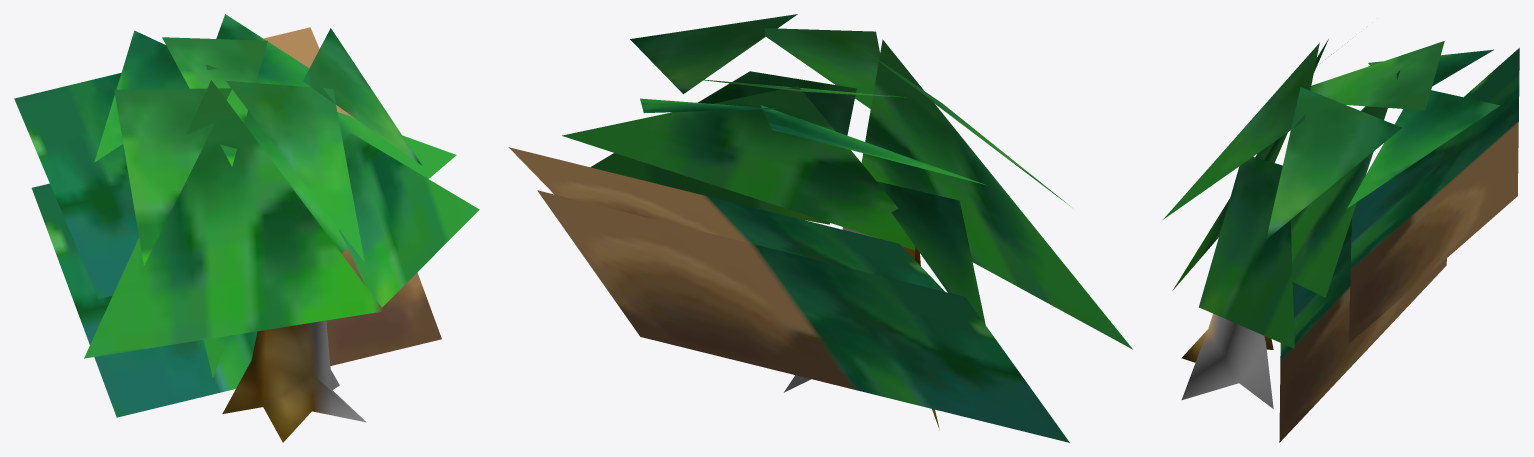
Rendered from fg_bushB_1.dae.
The picture shows the model from 3 angles, left to right: view 1: azimuth 30°, elevation 25°; view 2: azimuth 150°, elevation 25°; view 3: azimuth 270°, elevation 25°; orthographic projection. The views are drawn at different scales.
Parts seen in each view (by area): view 1: fg_bushB_1; view 2: fg_bushB_1; view 3: fg_bushB_1.
Part boxes in pixels (x1=…): fg_bushB_1: x1=14, y1=14, x2=479, y2=442; fg_bushB_1: x1=508, y1=14, x2=1132, y2=442; fg_bushB_1: x1=1163, y1=39, x2=1519, y2=442.
Size of the model in its own units: 34.76 by 25.18 by 25.46.
1 material, 1 textured.
